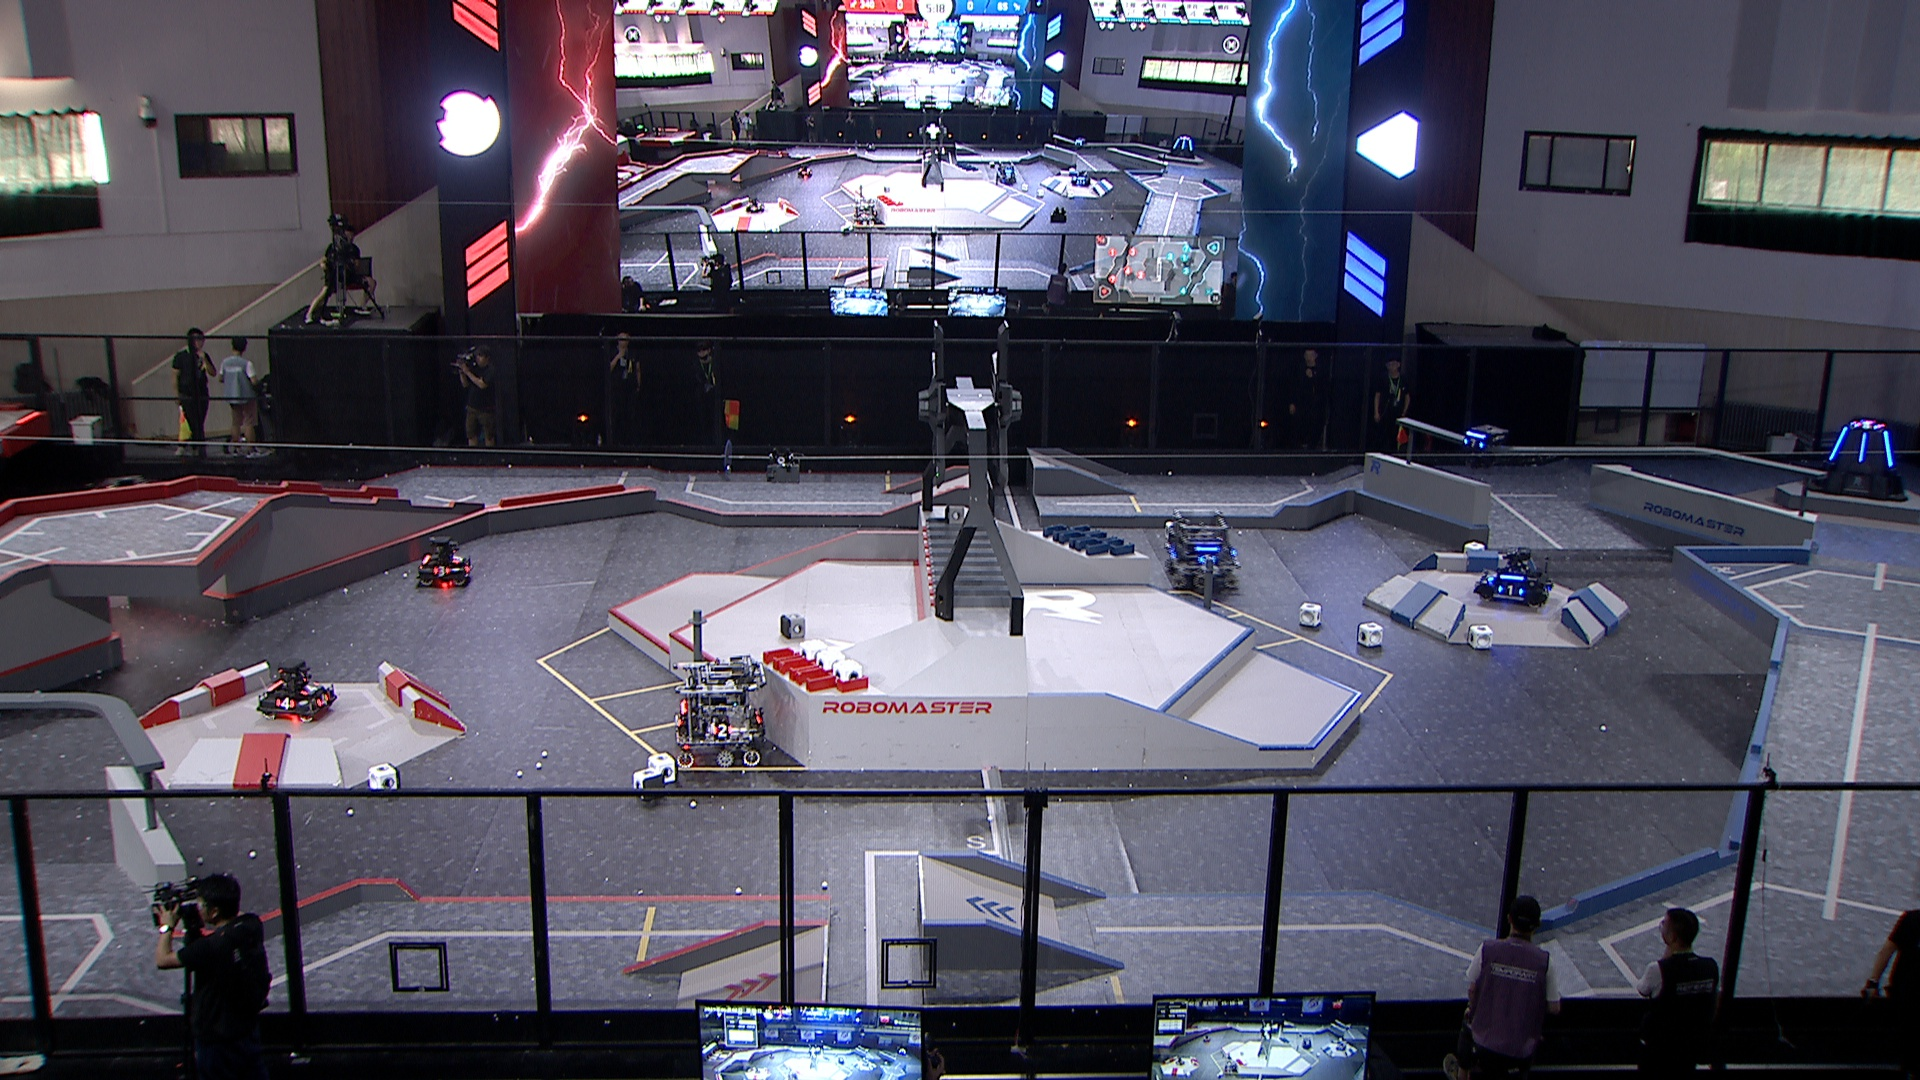armor: (1826, 425, 1849, 462), (1882, 429, 1896, 469), (1495, 583, 1524, 597), (1855, 431, 1869, 462), (276, 695, 297, 712), (430, 562, 452, 578), (711, 723, 735, 737), (299, 680, 320, 695), (1462, 436, 1485, 450), (1197, 553, 1218, 566), (316, 694, 332, 708), (448, 553, 463, 564)
base: (1807, 418, 1908, 502)
car: (671, 654, 770, 767), (1160, 508, 1242, 593), (1470, 543, 1552, 609), (253, 661, 338, 723), (415, 535, 473, 585)
ignore: (852, 199, 878, 229), (1166, 135, 1196, 160), (996, 161, 1017, 185), (1069, 167, 1091, 187), (744, 195, 766, 214), (1851, 419, 1880, 431), (795, 162, 814, 179)
watcher: (1460, 425, 1505, 469)
